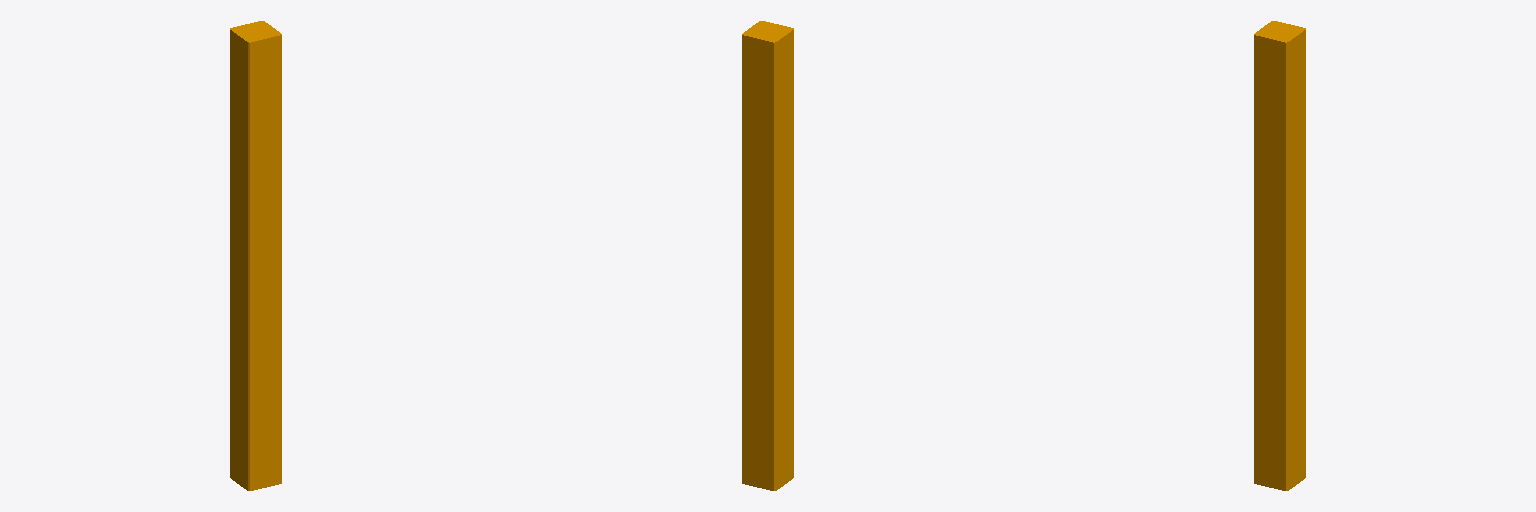
URDF robot description (factory_rectangular_peg_4mm_tight):
<?xml version="1.0"?>
<robot name="factory_rectangular_peg_4mm_tight">
    <link name="factory_rectangular_peg_4mm_tight">
        <visual>
            <geometry>
                <mesh filename="../mesh/factory_insertion/factory_rectangular_peg_4mm_tight_subdiv_3x.obj"/>
            </geometry>
        </visual>
        <collision>
            <geometry>
                <mesh filename="../mesh/factory_insertion/factory_rectangular_peg_4mm_tight_subdiv_3x.obj"/>
            </geometry>
            <sdf resolution="256"/>
        </collision>
    </link>
</robot>

--- Render facts (derived) ---
Views: 3 orthographic renders of the robot side by side, from view 1: azimuth 30°, elevation 25°; view 2: azimuth 150°, elevation 25°; view 3: azimuth 330°, elevation 25°.
Model factory_rectangular_peg_4mm_tight with 1 links and 0 joints (none), rooted at factory_rectangular_peg_4mm_tight, posed all joints at 0.
Visible links, largest first — view 1: factory_rectangular_peg_4mm_tight; view 2: factory_rectangular_peg_4mm_tight; view 3: factory_rectangular_peg_4mm_tight.
Boxes of the visible links, x1=… form: factory_rectangular_peg_4mm_tight: x1=230, y1=21, x2=281, y2=490; factory_rectangular_peg_4mm_tight: x1=742, y1=21, x2=793, y2=490; factory_rectangular_peg_4mm_tight: x1=1254, y1=21, x2=1305, y2=490.
Size in the robot's own frame: 0.004 by 0.004 by 0.05 metres.
Meshes: 1 distinct files referenced, 1 mesh visuals loaded (1 OBJ).